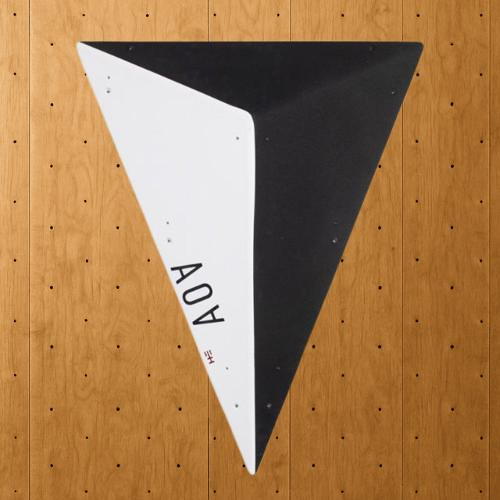Volume: (76, 39, 424, 475)
